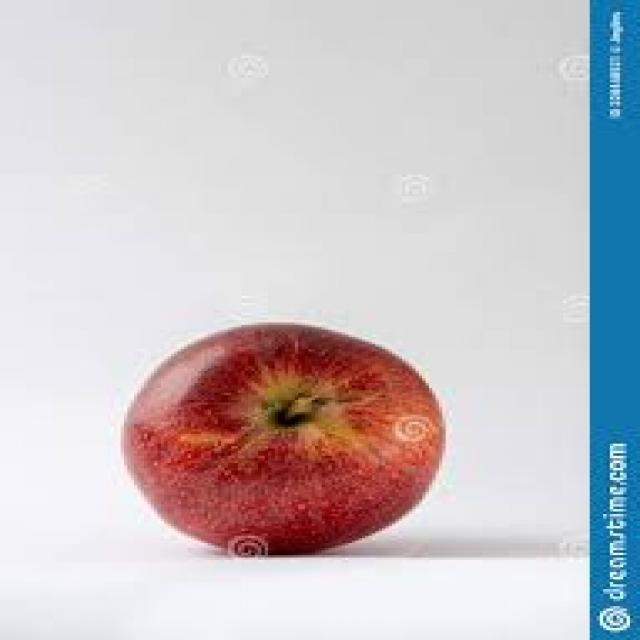Fresh Apple: (106, 312, 476, 565)
